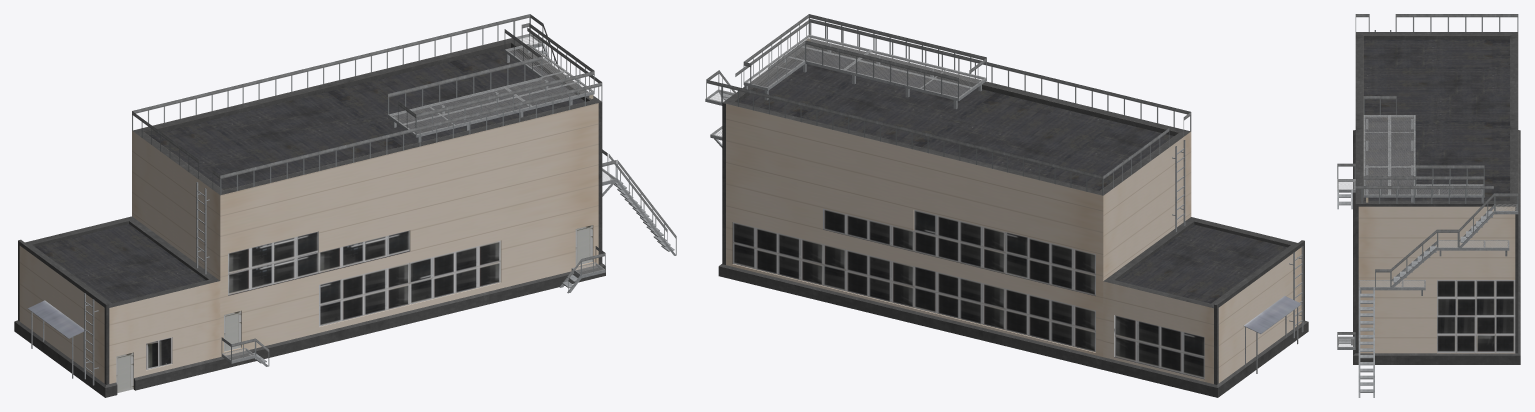
Rendered from plant-building15-2.glb.
3 renders of one model, left to right at view 1: azimuth 30°, elevation 25°; view 2: azimuth 150°, elevation 25°; view 3: azimuth 270°, elevation 25°, orthographic. The views are drawn at different scales.
Parts seen in each view (by area): view 1: Object8933770; view 2: Object8933770; view 3: Object8933770.
Part boxes in pixels (<box>): Object8933770: <box>14,14,676,397</box>; Object8933770: <box>705,14,1308,397</box>; Object8933770: <box>1337,14,1520,397</box>.
Size of the model in its own units: 36.01 by 11.79 by 10.53.
1 material, 1 textured.
